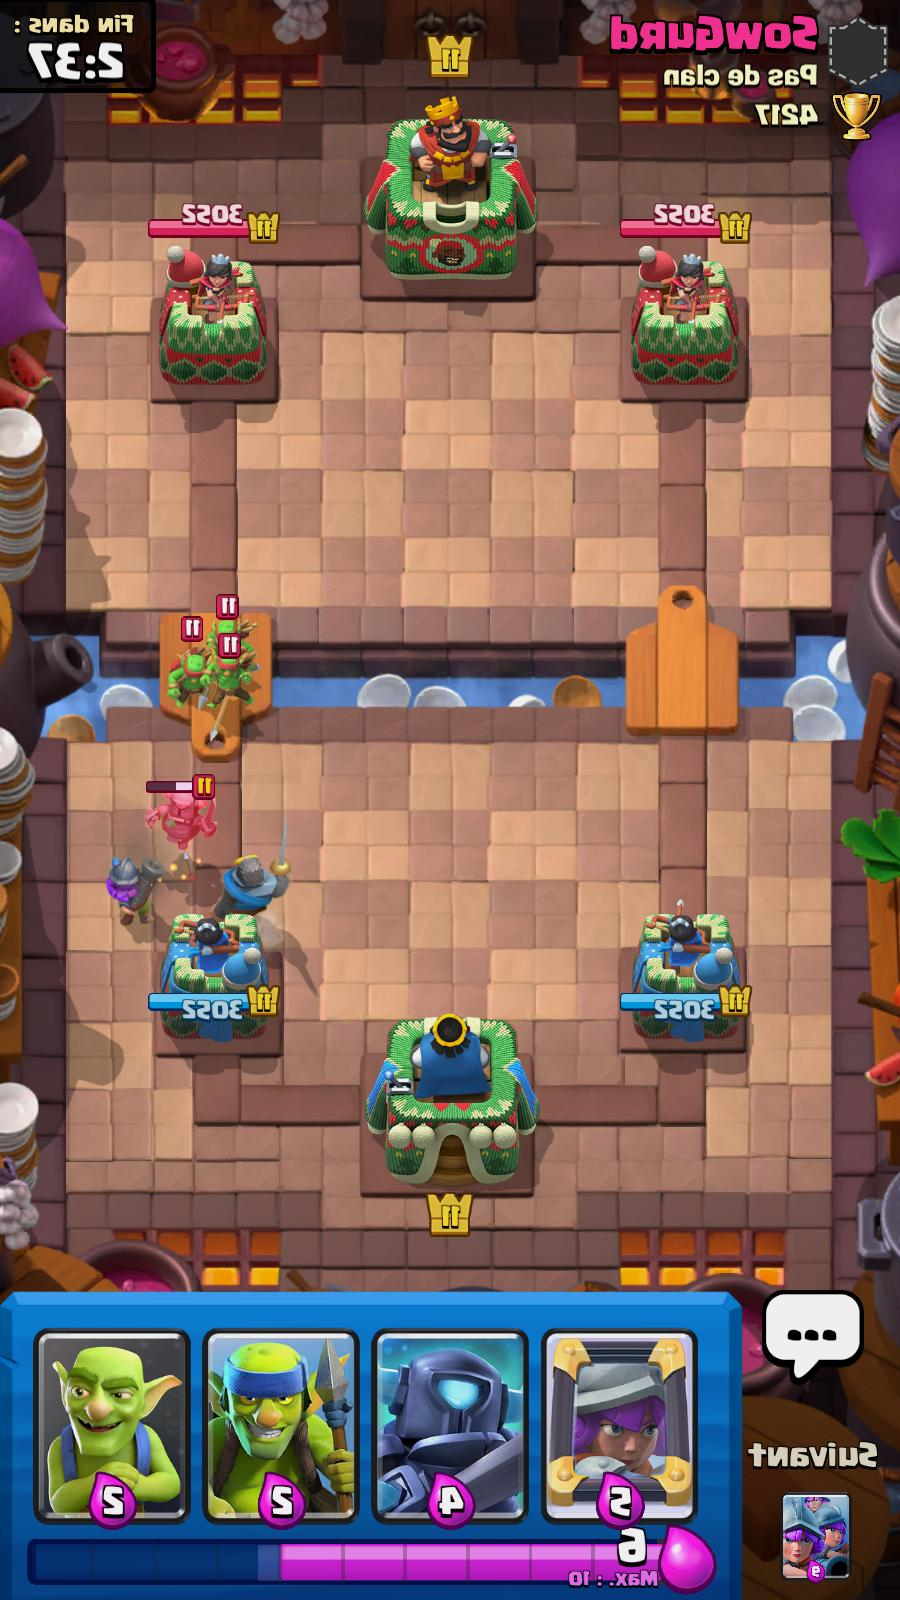chevalier: (214, 827, 290, 922)
gobelin_lances: (165, 614, 214, 705), (209, 641, 256, 709), (207, 597, 256, 656)
mini_PEKKA: (145, 775, 213, 856)
mousquetaire: (105, 858, 164, 926)
